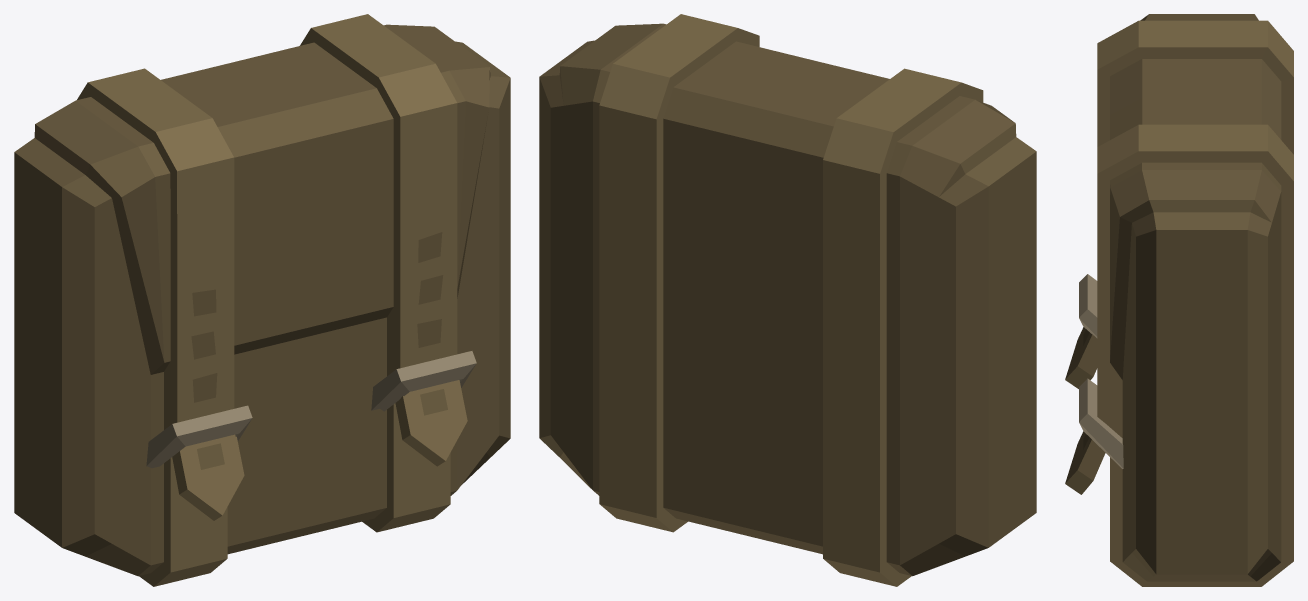
Rendered from Bag_5.fbx.
3 views of the same model, side by side, from view 1: azimuth 30°, elevation 25°; view 2: azimuth 150°, elevation 25°; view 3: azimuth 270°, elevation 25° (orthographic). The views are drawn at different scales.
Visible parts, largest first — view 1: Bag_5; view 2: Bag_5; view 3: Bag_5.
Part boxes in pixels (x1=…): Bag_5: x1=14, y1=14, x2=510, y2=586; Bag_5: x1=539, y1=14, x2=1036, y2=586; Bag_5: x1=1065, y1=14, x2=1293, y2=586.
Size of the model in its own units: 33.65 by 32.72 by 15.58.
